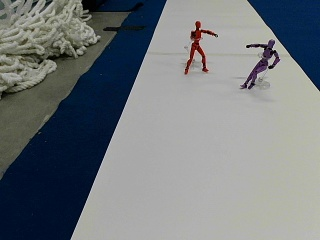pedestrian: (241, 37, 278, 88), (184, 20, 218, 74)
